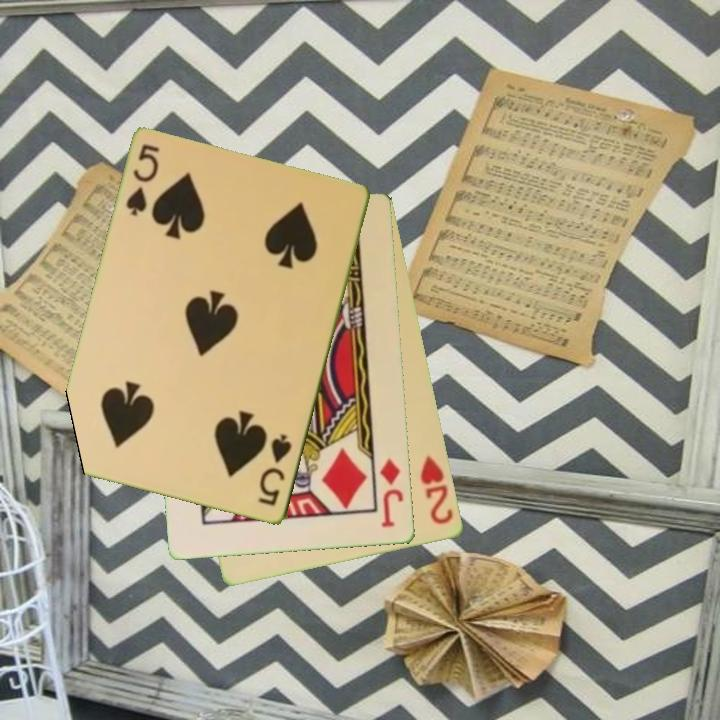2h: (417, 452, 457, 528)
5s: (122, 141, 163, 220), (255, 431, 295, 510)
Jd: (376, 455, 407, 531)
